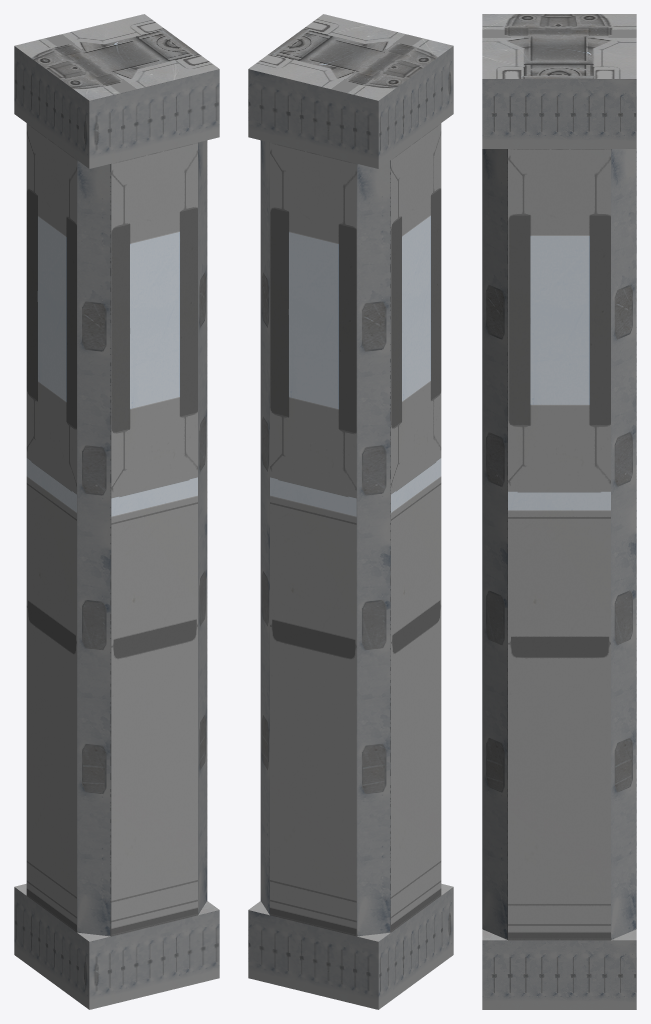
Rendered from SM_PillarsB_d.fbx.
The picture shows the model from 3 angles, left to right: view 1: azimuth 30°, elevation 25°; view 2: azimuth 150°, elevation 25°; view 3: azimuth 270°, elevation 25°; orthographic projection. The views are drawn at different scales.
Visible parts, largest first — view 1: SM_PillarsB_d_LOD0; view 2: SM_PillarsB_d_LOD0; view 3: SM_PillarsB_d_LOD0.
Boxes of the visible parts, x1,y1,x2,y2 form: SM_PillarsB_d_LOD0: (14, 14, 219, 1009); SM_PillarsB_d_LOD0: (248, 14, 453, 1009); SM_PillarsB_d_LOD0: (482, 14, 636, 1009).
Size of the model in its own units: 60 by 60 by 400.
3 materials, 3 textured.
